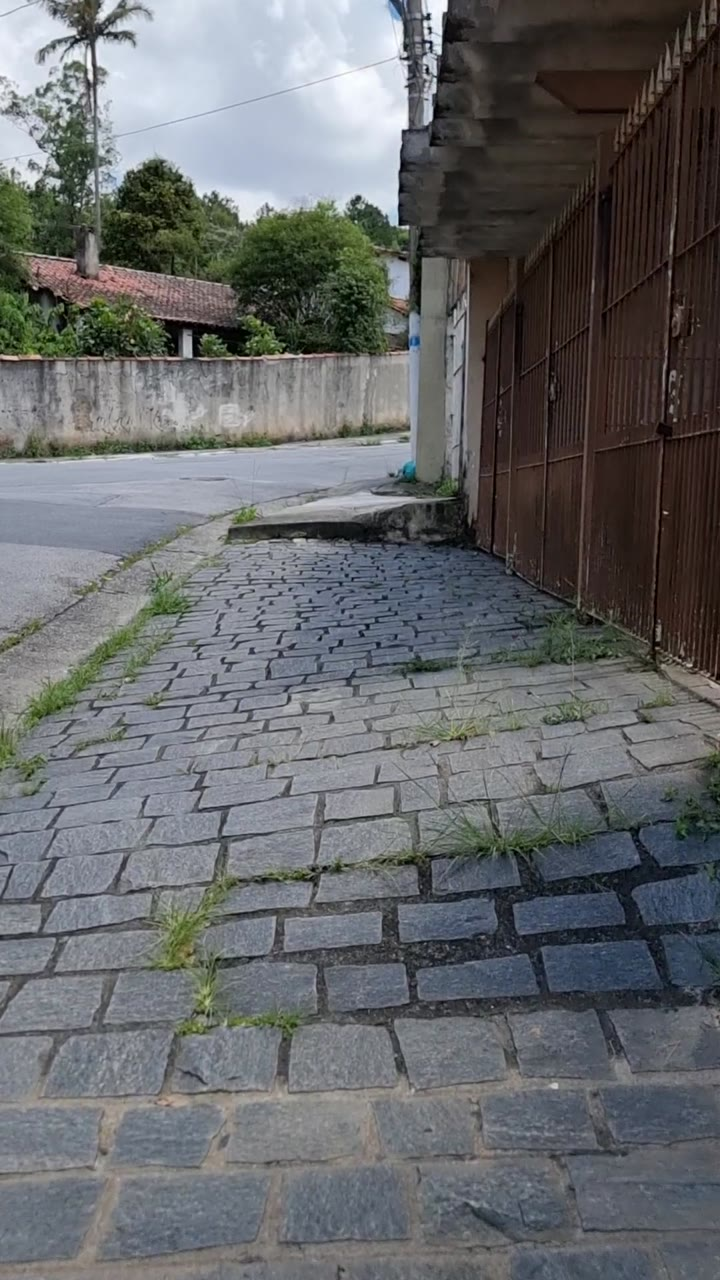desnivel: (216, 474, 475, 550)
obstaculo: (396, 0, 432, 486)
